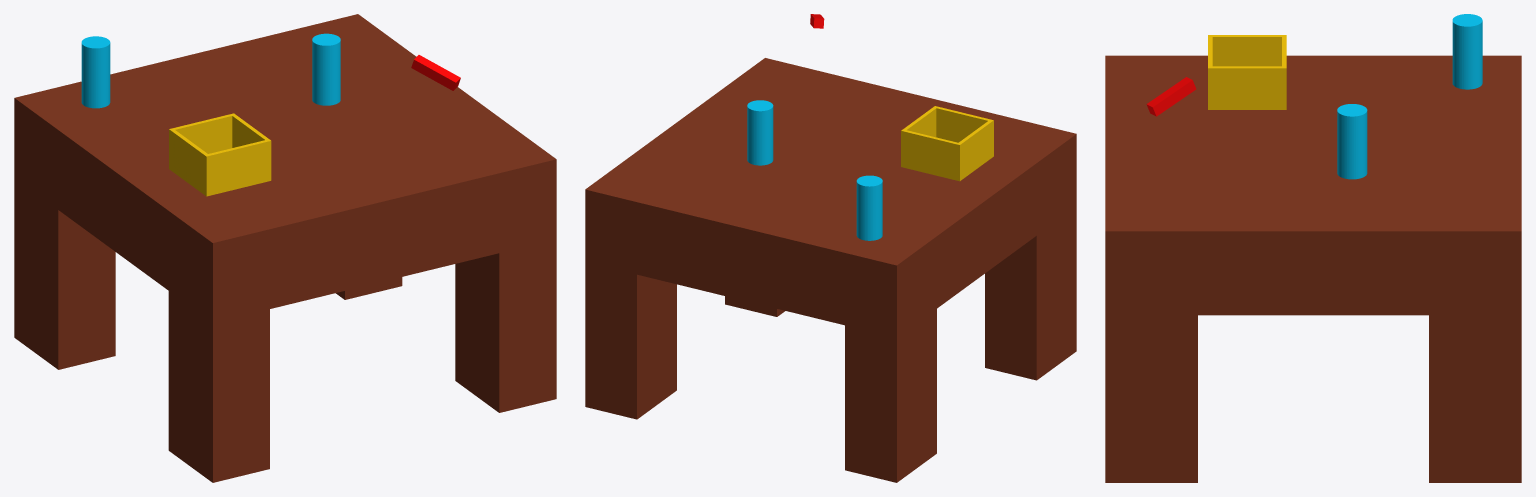
The model's file is problem_2.dae.
3 renders of one model, left to right at view 1: azimuth 30°, elevation 25°; view 2: azimuth 150°, elevation 25°; view 3: azimuth 270°, elevation 25°, orthographic. The views are drawn at different scales.
Visible parts, largest first — view 1: base (×12); view 2: base (×10); view 3: base (×8).
Part boxes in pixels (box(x1,y1,x2,y2)): base (×12): box(14, 14, 556, 482); base (×10): box(585, 58, 1076, 482); base (×8): box(1105, 14, 1521, 482).
Bounding box in the file's own units: 0.9 × 0.9 × 0.8441.
